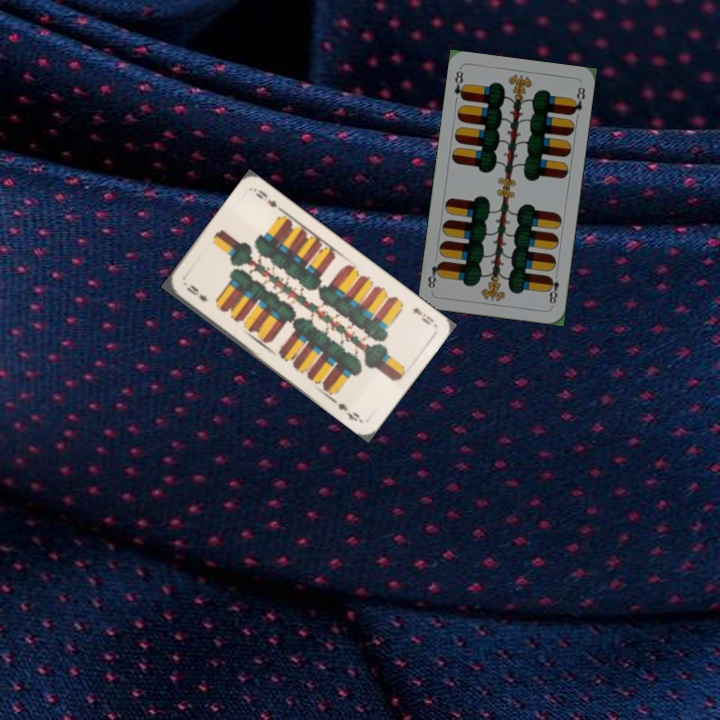E8: (543, 268, 562, 308), (450, 67, 468, 103)
E9: (408, 303, 437, 328), (182, 280, 210, 304)
